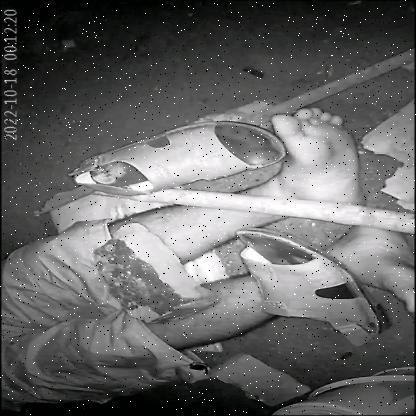leg: (175, 102, 389, 256)
